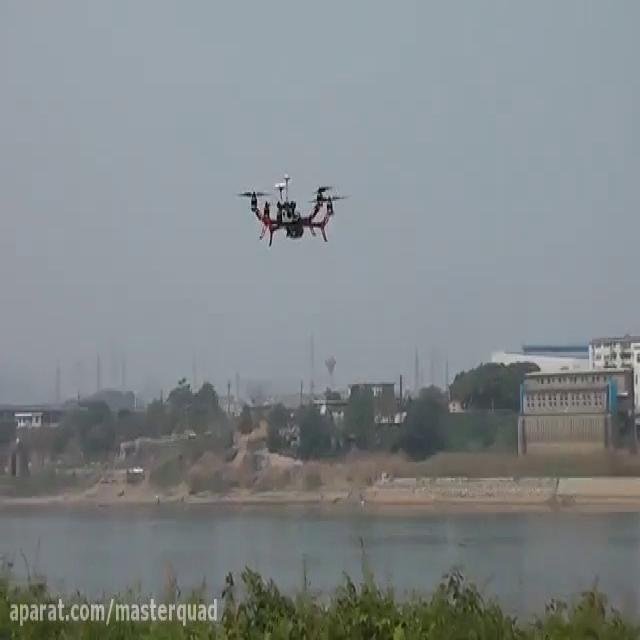drone: (233, 167, 355, 251)
